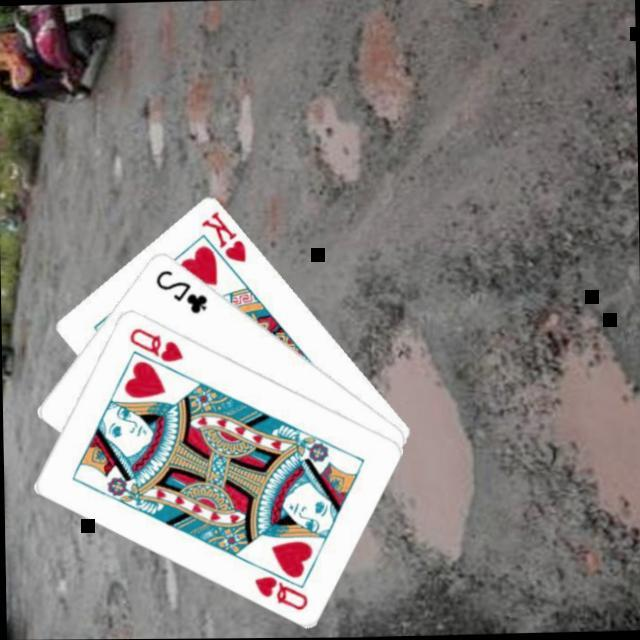2C: (149, 264, 208, 316)
KH: (195, 205, 247, 265)
QH: (248, 557, 308, 614), (122, 322, 184, 364)
